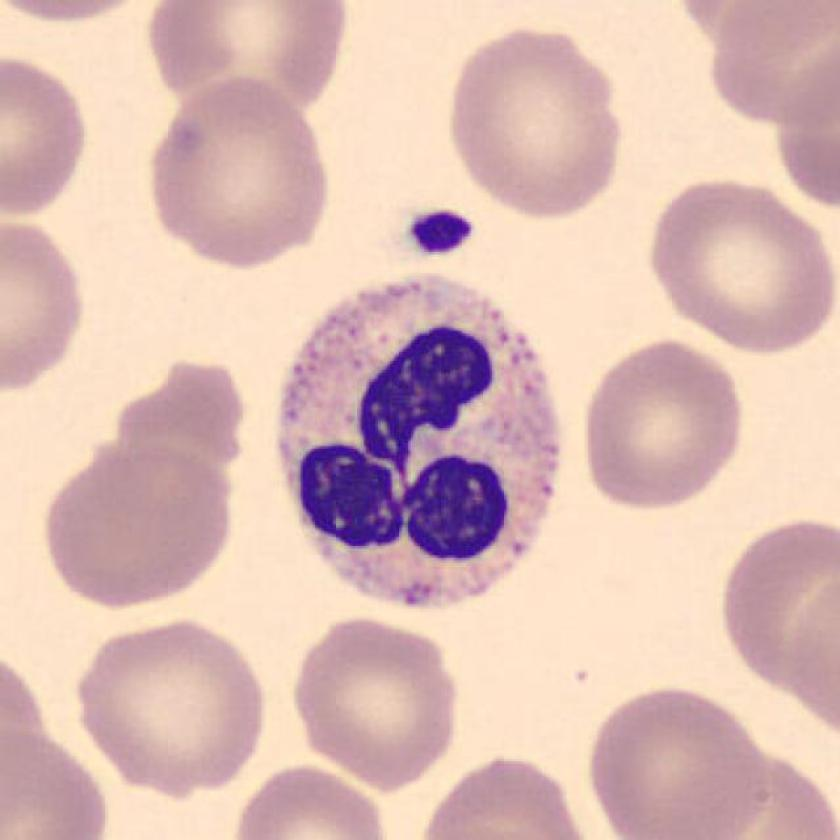neutrophil: (279, 275, 563, 605)
